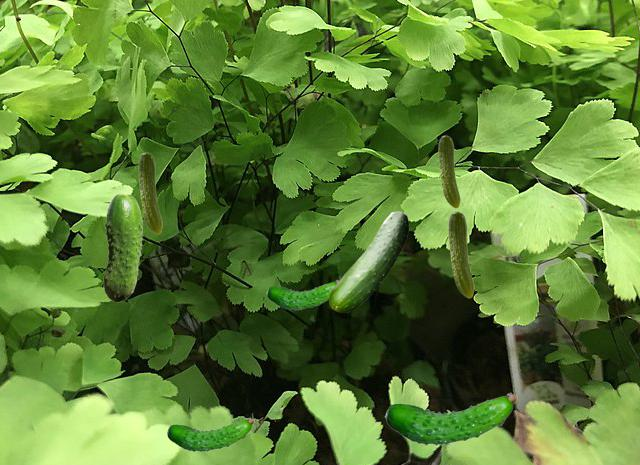cucumber: (329, 211, 407, 311), (384, 386, 516, 445), (103, 192, 142, 301), (166, 413, 253, 451), (266, 276, 340, 309), (448, 211, 473, 297), (138, 152, 161, 233), (438, 135, 459, 207)
